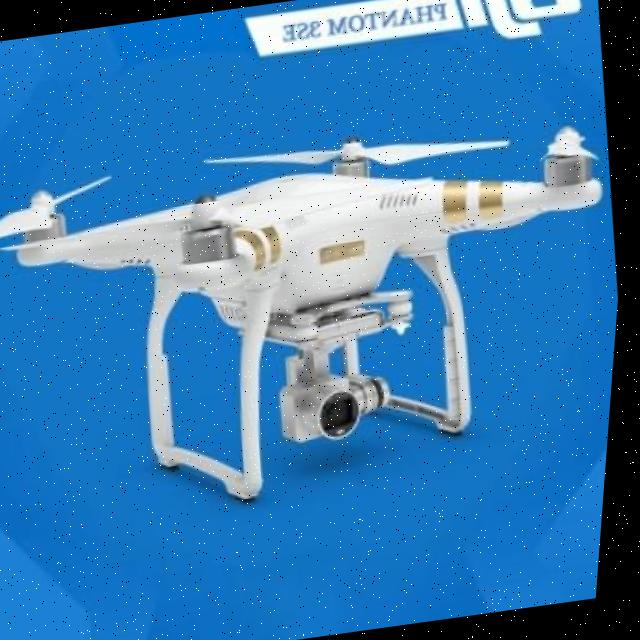drones: (0, 66, 636, 567)
